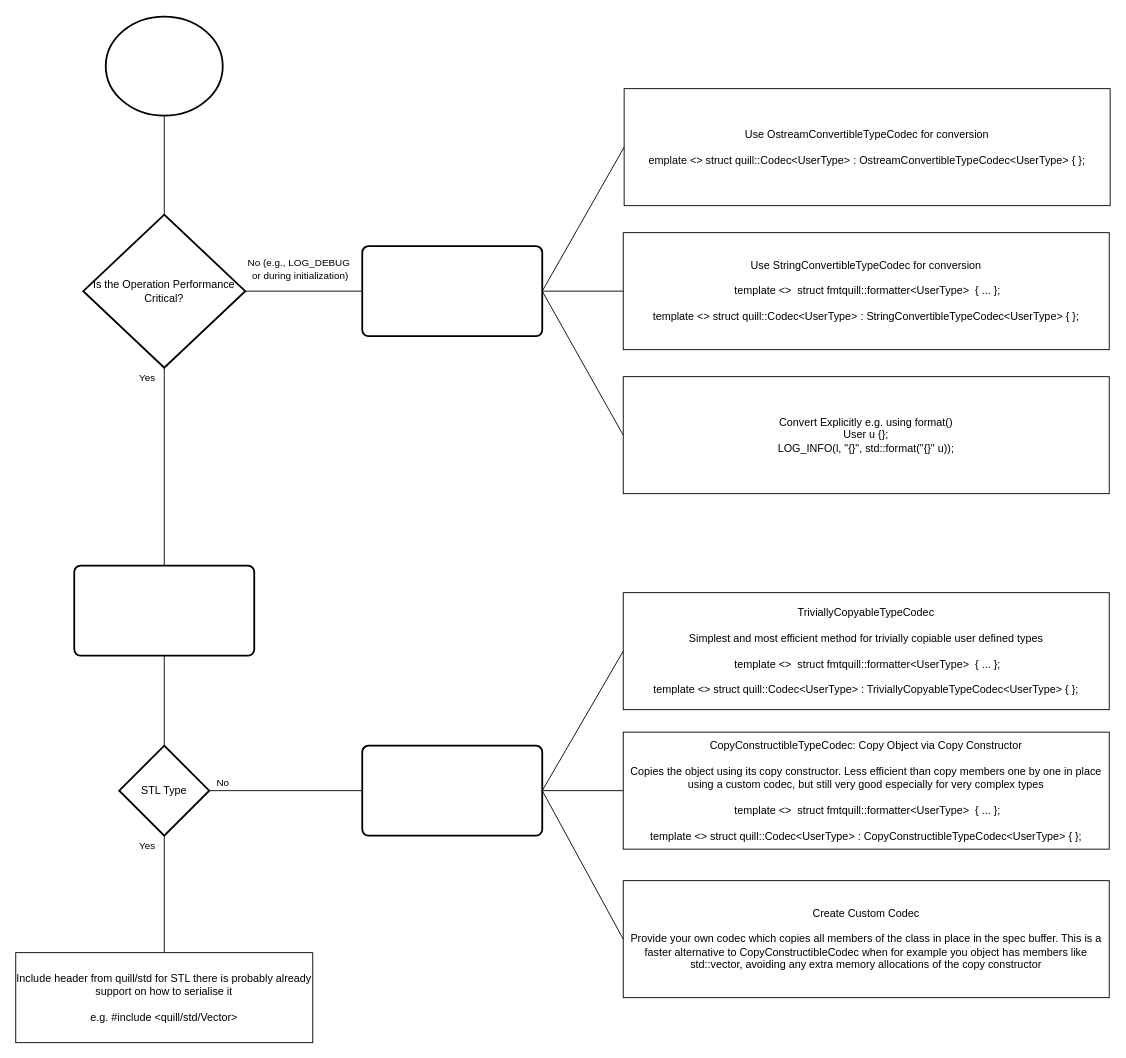
Some shapes in this 1126 by 1058 pixel diagram are drawn without their labels. Here are the shapes that lost their labels. From the top down, the centre of each, then its label:
point 163,65: Logging STL or User-Defined Type
point 452,291: Convert to a String on the Hot Path
point 164,610: Pass a binary copy, deferring string conversion to the backend logging thread
point 452,790: User Defined Type Codec Required
